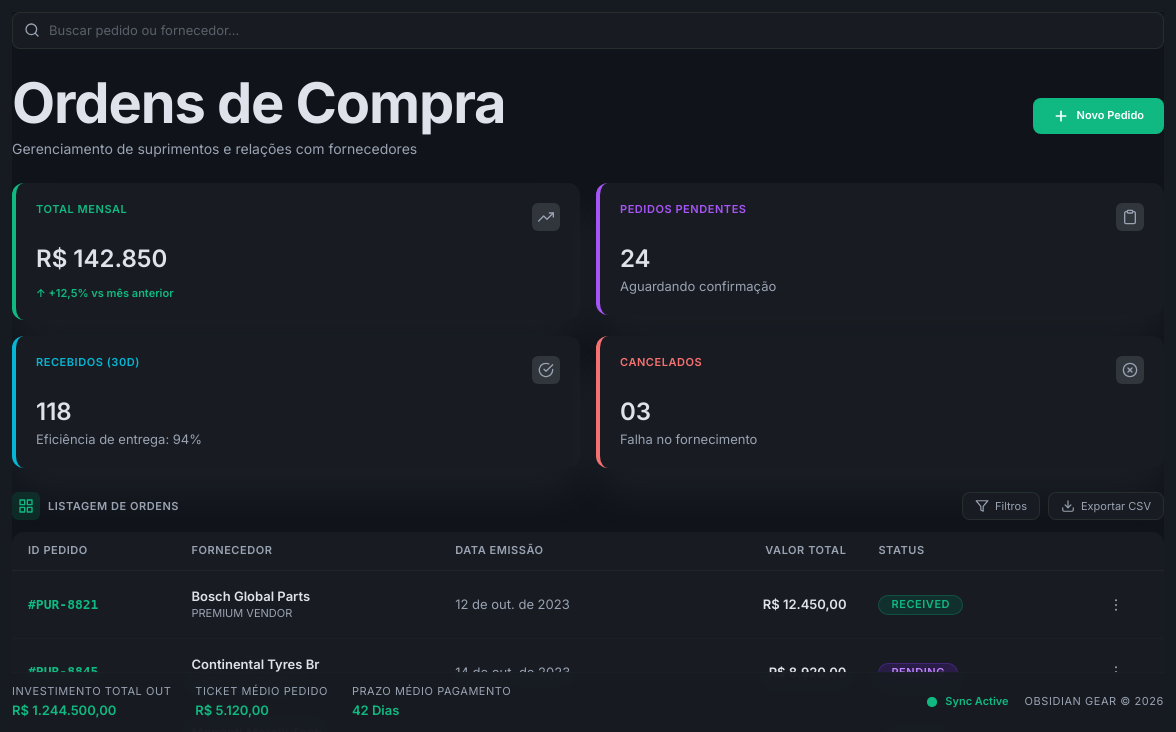
Test: PurchasesPage — 4.x Busca e filtros integrados › 4.1 — digitar "Bosch Global" filtra para PUR-8821 após debounce
Type "Bosch Global" into the search field labelled "Buscar pedido ou fornecedor…". click: (588, 30)
box: [12,12,1164,49]
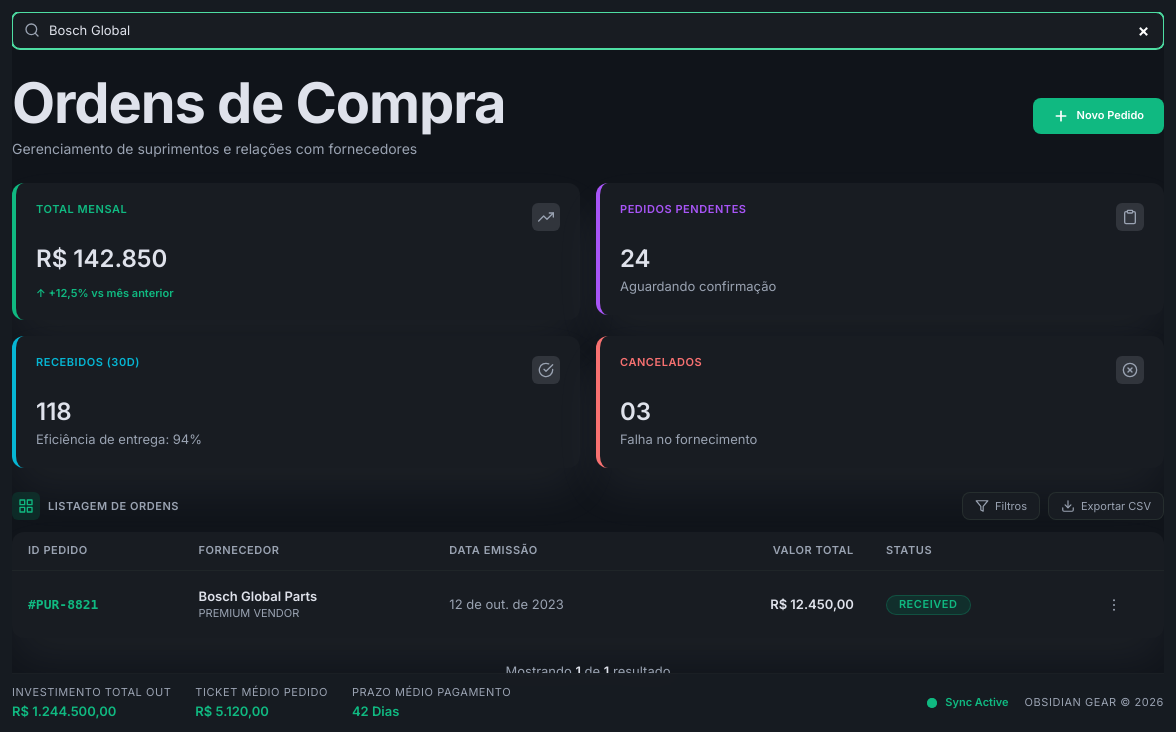
Check: the text "#PUR-8821" is shown, box [28,597,98,612]
Check: the text "#PUR-8845" is gone
